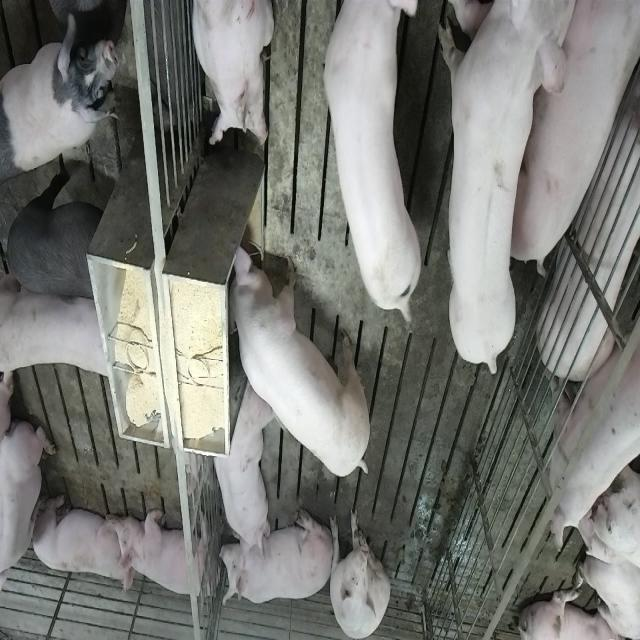Feeding: (229, 242, 375, 478)
Lateral_lying: (517, 0, 640, 271)
Sitting: (328, 504, 390, 638)
Standing: (434, 5, 560, 382), (319, 4, 421, 327), (550, 306, 640, 548), (2, 17, 122, 176), (4, 159, 112, 302), (3, 269, 119, 383)
Sternal_lying: (191, 0, 274, 150), (209, 378, 270, 562), (221, 508, 328, 610), (2, 416, 56, 604), (29, 491, 131, 589), (118, 506, 214, 604)
